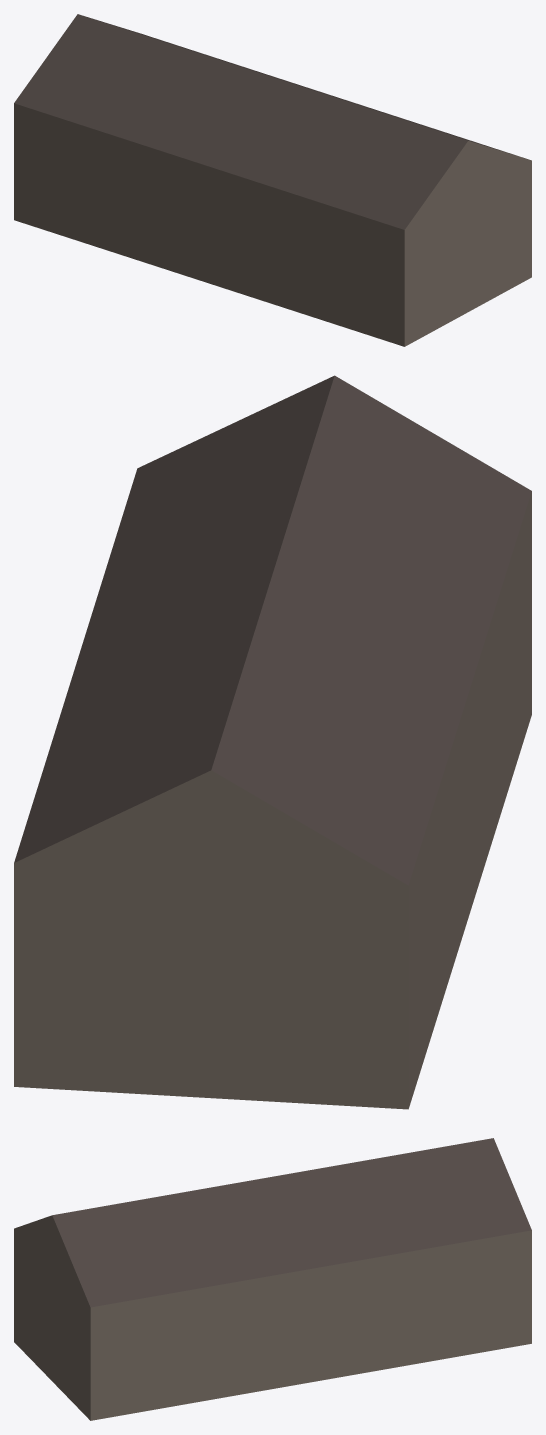
3 views of the same model, one above another, from view 1: azimuth 30°, elevation 25°; view 2: azimuth 150°, elevation 25°; view 3: azimuth 270°, elevation 25° (orthographic). The views are drawn at different scales.
Visible parts, largest first — view 1: HP-w369342575; view 2: HP-w369342575; view 3: HP-w369342575.
Part boxes in pixels (<box>): HP-w369342575: <box>14,14,531,346</box>; HP-w369342575: <box>14,375,531,1109</box>; HP-w369342575: <box>14,1138,531,1420</box>.
Bounding box in the file's own units: 17.71 × 8.79 × 24.84.
